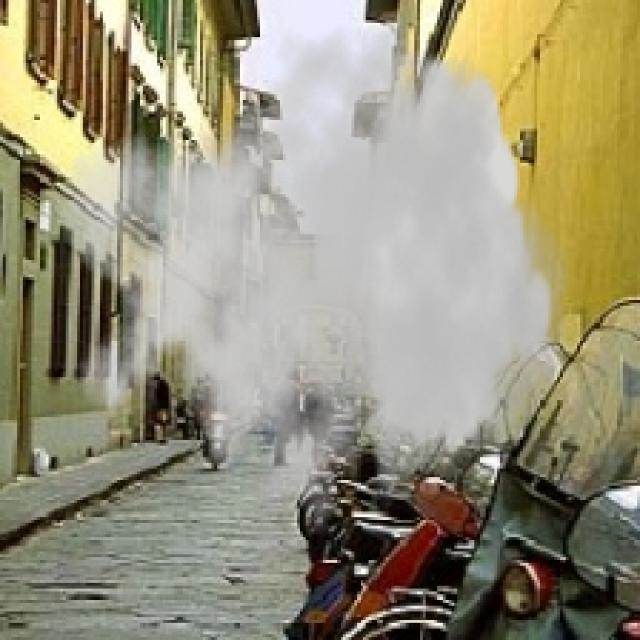smoke: (54, 0, 572, 563)
